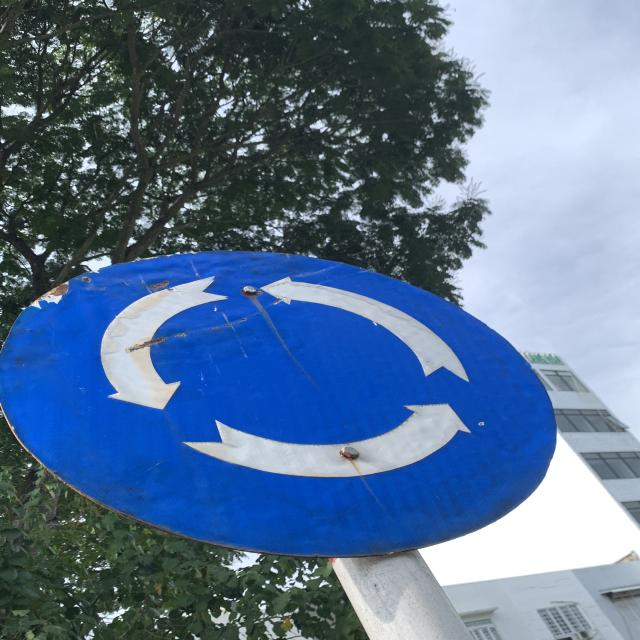Xe_Bus: (1, 249, 562, 557)
